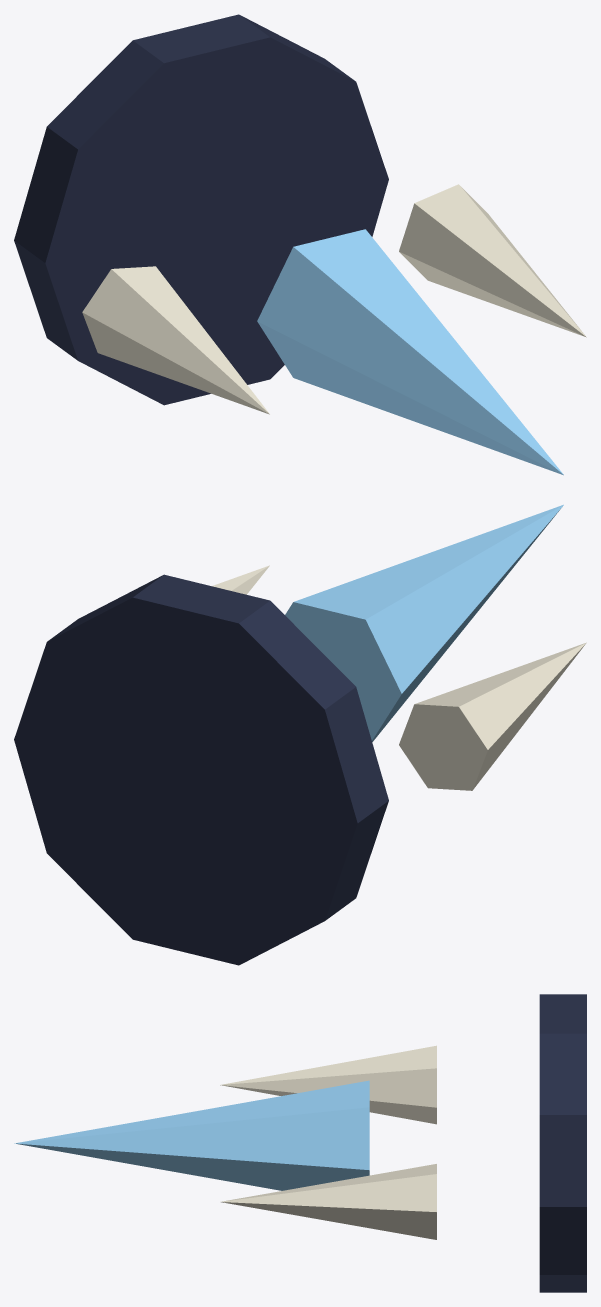
The model's file is 01_low_poly_silhouette_overlay_1.glb.
The picture shows the model from 3 angles, top to bottom: view 1: azimuth 30°, elevation 25°; view 2: azimuth 150°, elevation 25°; view 3: azimuth 270°, elevation 25°; orthographic projection. The views are drawn at different scales.
Visible parts, largest first — view 1: socket_base, silhouette_spike_main, silhouette_spike_l, silhouette_spike_r; view 2: socket_base, silhouette_spike_main, silhouette_spike_l, silhouette_spike_r; view 3: silhouette_spike_main, socket_base, silhouette_spike_r, silhouette_spike_l.
Boxes of the visible parts, x1,y1,x2,y2 form: socket_base: (14,14,388,405); silhouette_spike_main: (257,229,563,475); silhouette_spike_l: (82,266,269,414); silhouette_spike_r: (399,184,586,337); socket_base: (14,574,388,965); silhouette_spike_main: (285,504,563,741); silhouette_spike_l: (399,642,586,790); silhouette_spike_r: (212,565,269,594); silhouette_spike_main: (14,1080,369,1190); socket_base: (539,994,586,1292); silhouette_spike_r: (220,1164,436,1239); silhouette_spike_l: (220,1045,436,1124).
Size of the model in its own units: 0.897 by 0.7228 by 1.45.
